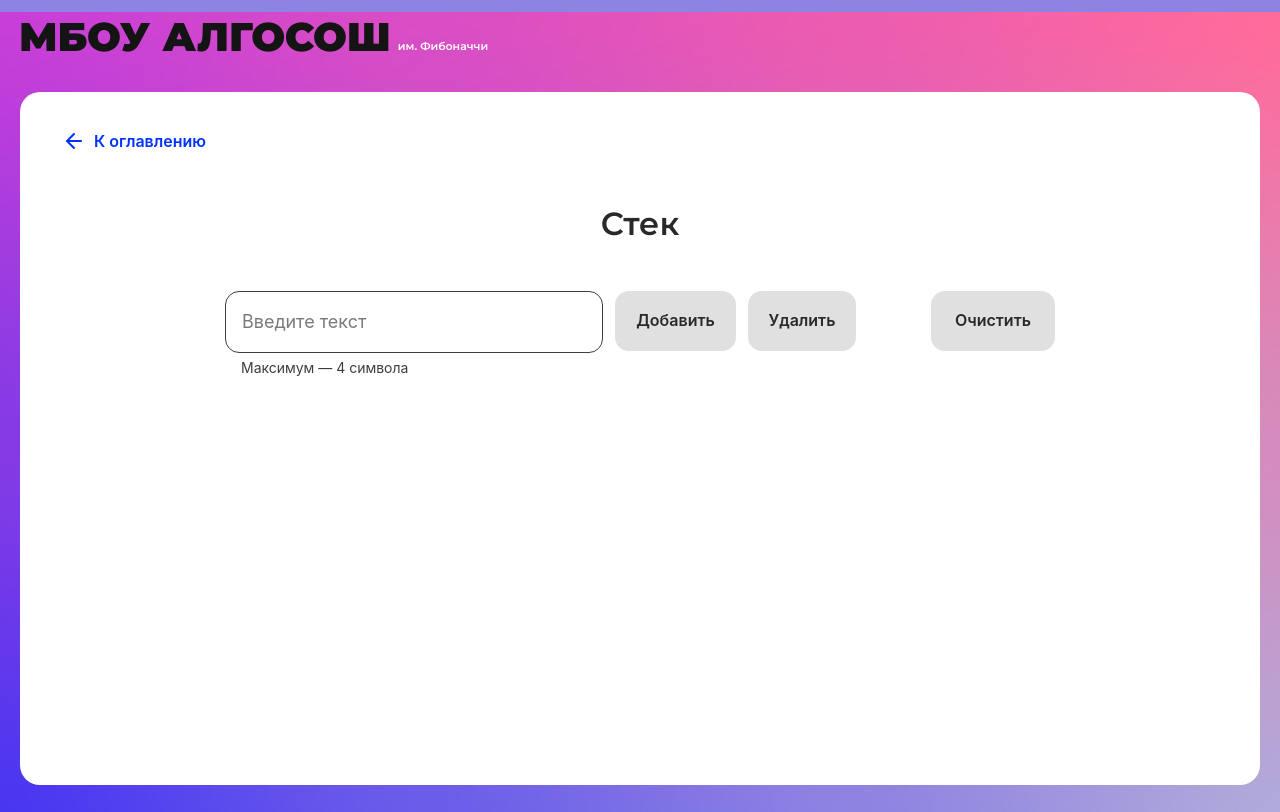
Scenario: Тестирование корректной работы Стека › Добавление первого элемента в Стек происходит корректно
This screenshot has width=1280, height=812.
Type "1" into the field with test id "input" at {"x": 414, "y": 322}, box left=225, top=291, right=603, bottom=353
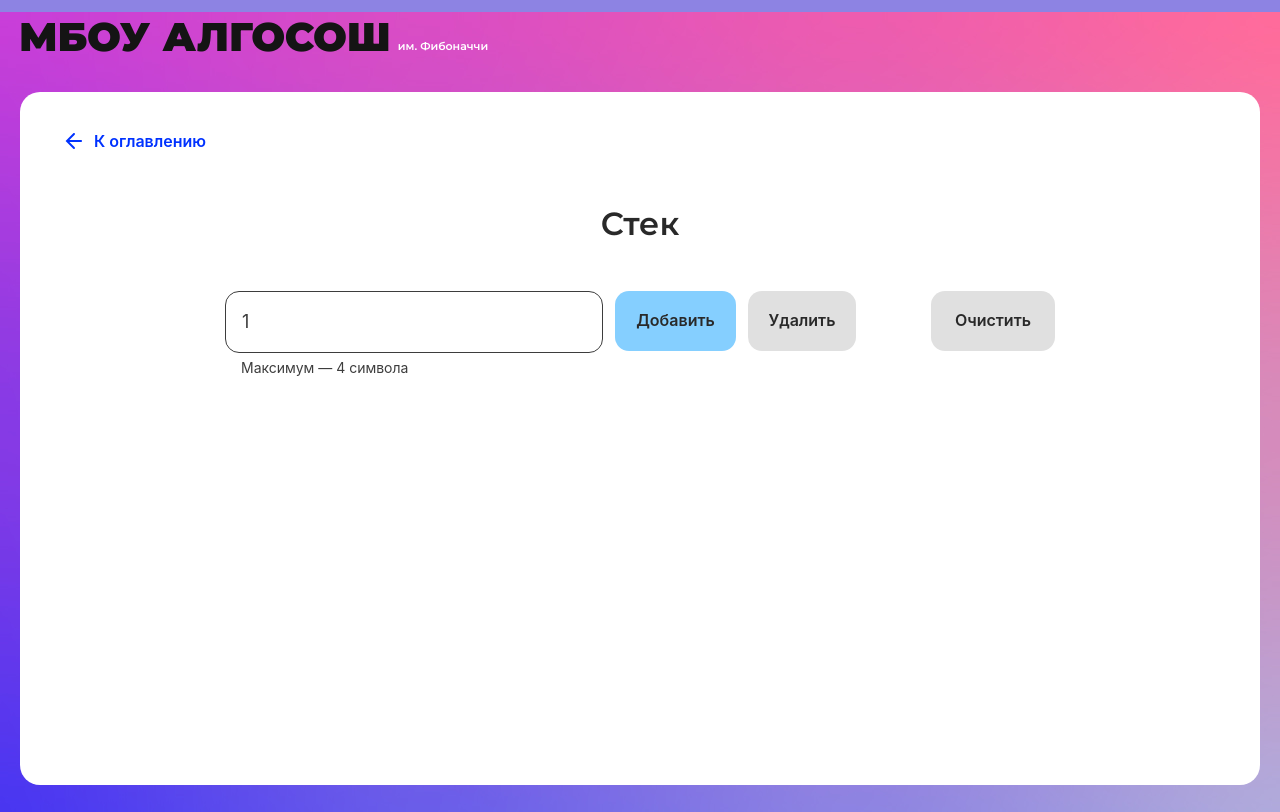
Click the button with test id "addBtn" at {"x": 676, "y": 321}, box left=615, top=291, right=736, bottom=351
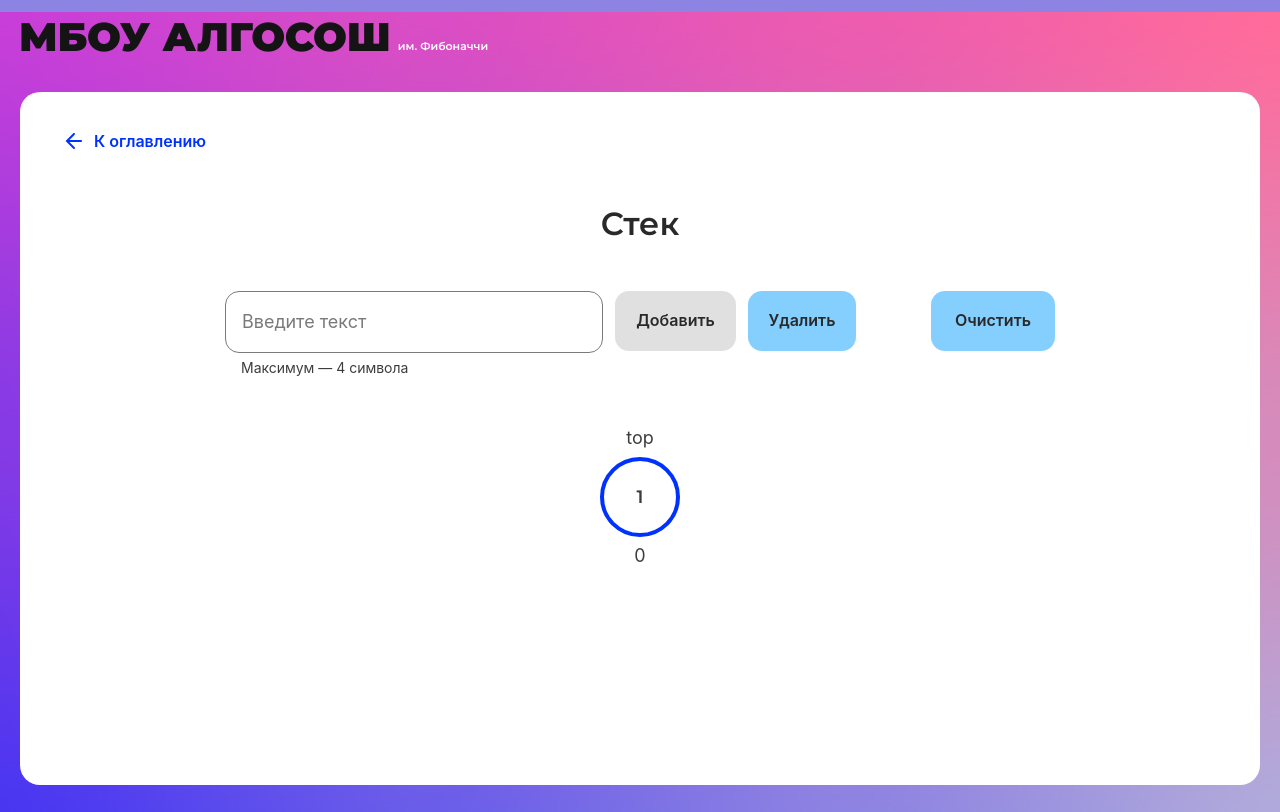
Expected: the text with test id "circle" reads "1", left=637, top=486, right=644, bottom=508
Expected: the text with test id "head" reads "top", left=626, top=427, right=654, bottom=448
Expected: the text with test id "index" reads "0", left=634, top=545, right=645, bottom=566
